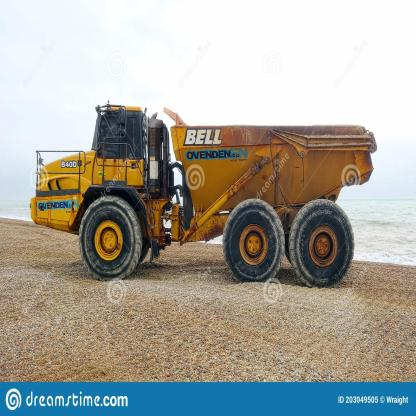dump_truck: (25, 88, 384, 304)
